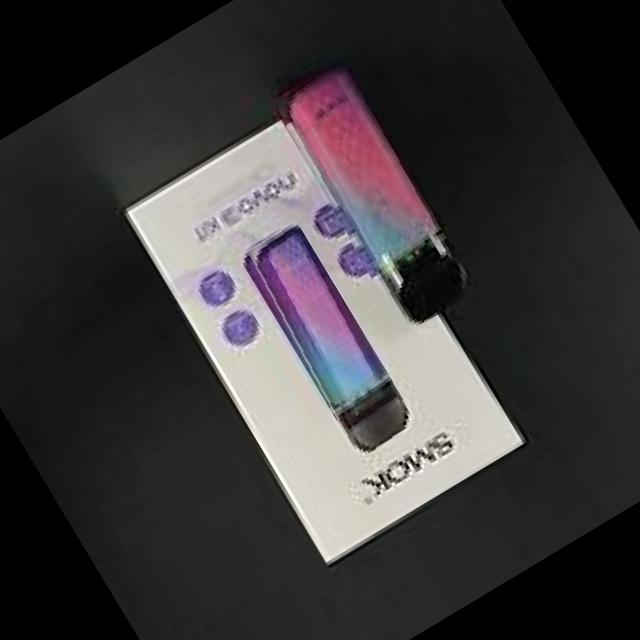Hazard: (261, 51, 482, 335), (233, 218, 417, 460)
